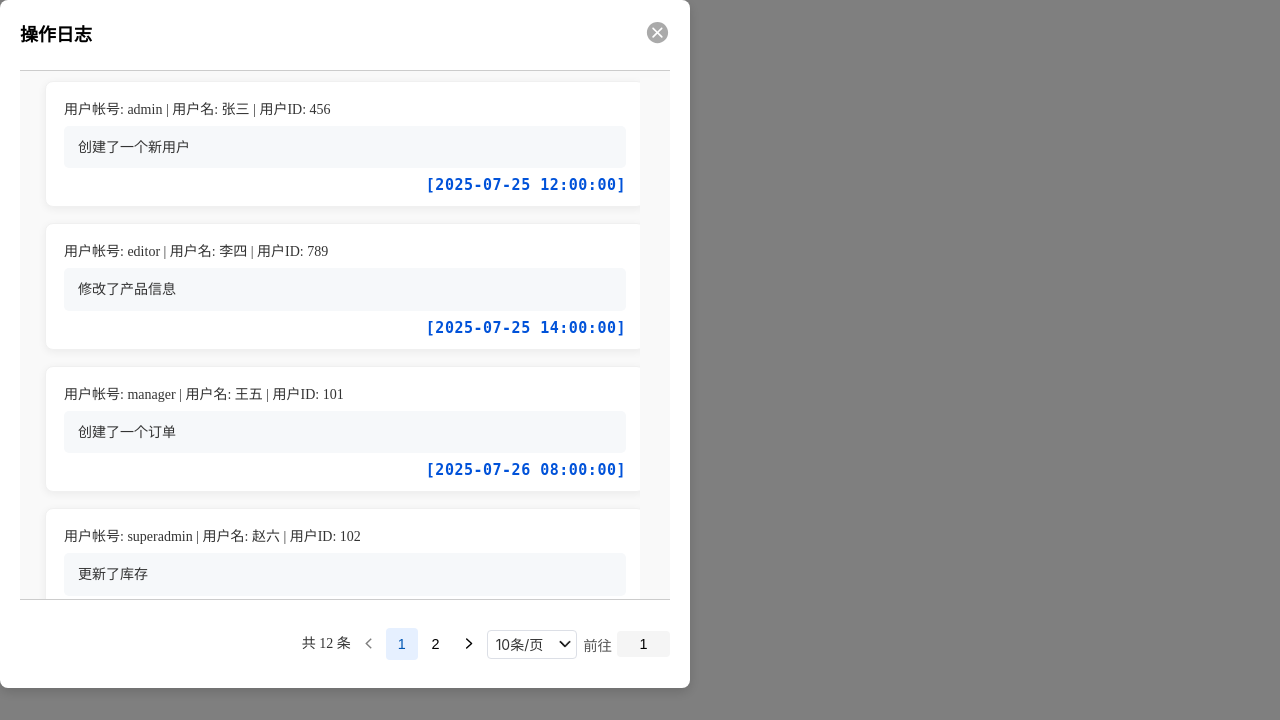
DiaryLogPanel Component › 应正确处理静态数据页数变化
Check: the text "创建了一个新用户" is shown, box [78,139,190,155]
Check: the text "修改了产品信息" is shown, box [78,281,176,297]
// 点击分页器跳转到第二页
Click the button "2". click: (435, 644)
box: [419,628,451,660]
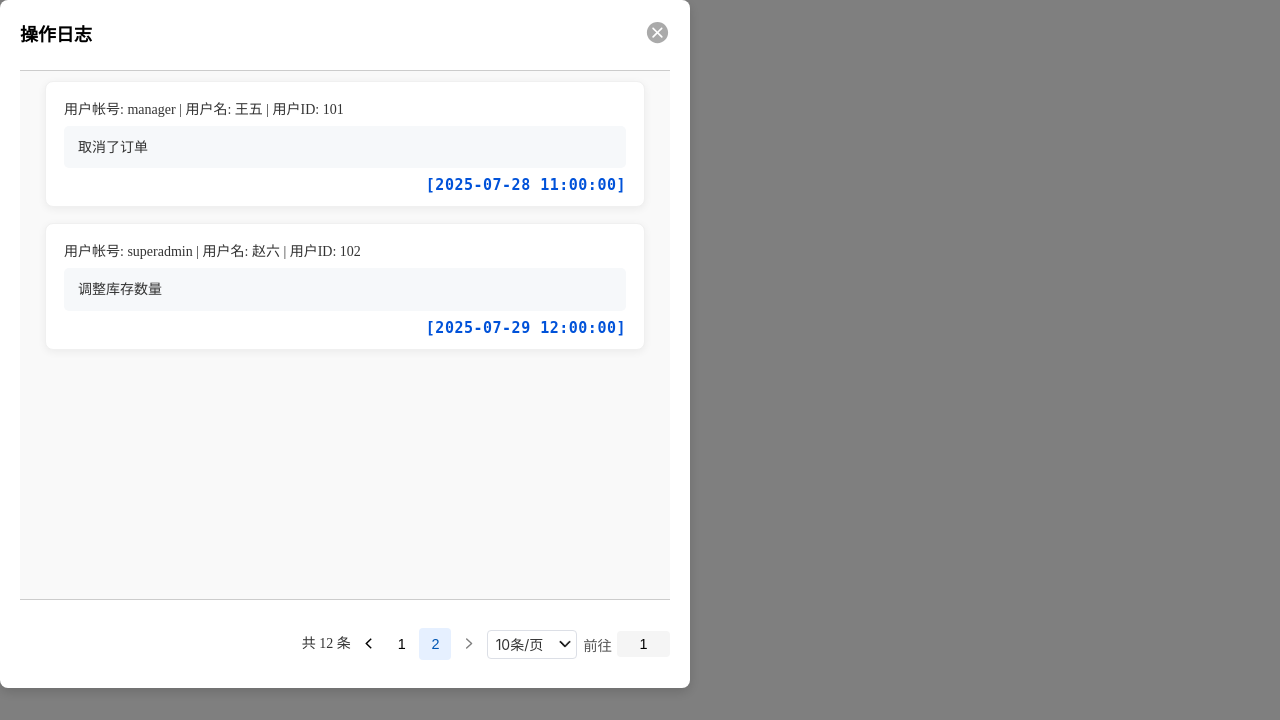
Check: the text "创建了一个新用户" is gone
Check: the text "修改了产品信息" is gone
Check: the text "创建了一个订单" is gone
